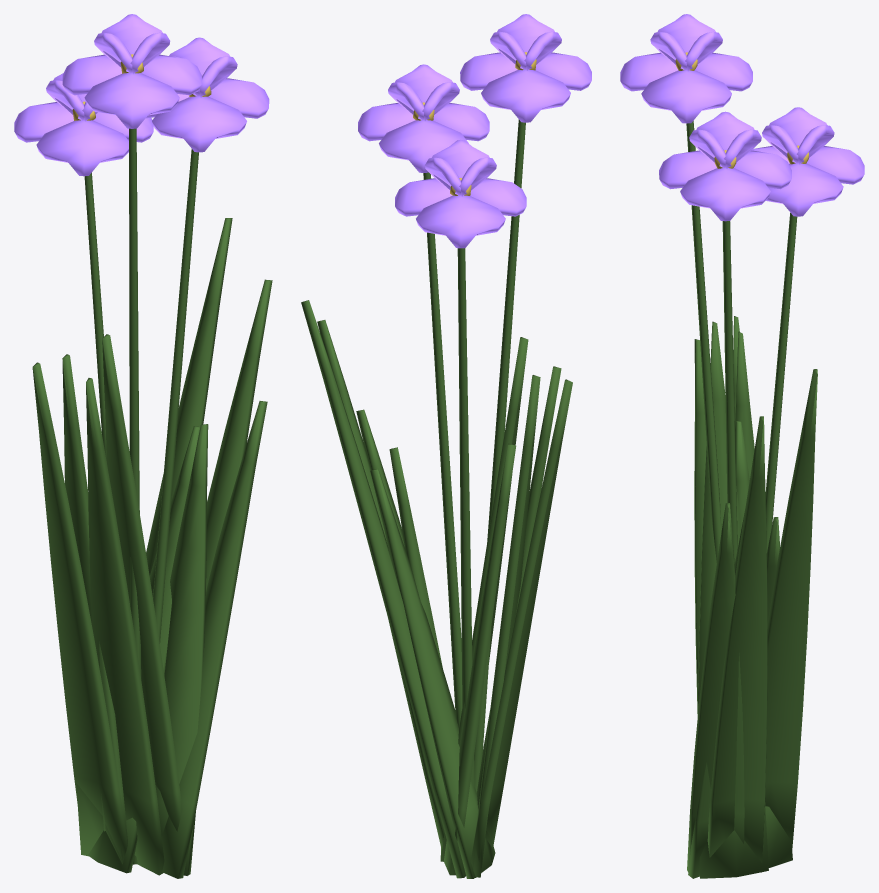
Rendered from shore_iris.glb.
3 renders of one model, left to right at view 1: azimuth 30°, elevation 25°; view 2: azimuth 150°, elevation 25°; view 3: azimuth 270°, elevation 25°, orthographic. The views are drawn at different scales.
Visible parts, largest first — view 1: iris_leaf, petal_iris; view 2: iris_leaf, petal_iris; view 3: iris_leaf, petal_iris.
Part boxes in pixels (<box>): iris_leaf: <box>32,128,272,878</box>; petal_iris: <box>14,14,269,176</box>; iris_leaf: <box>301,119,572,878</box>; petal_iris: <box>358,14,591,248</box>; iris_leaf: <box>686,121,817,878</box>; petal_iris: <box>620,14,864,221</box>.
Size of the model in its own units: 0.2665 by 0.8635 by 0.2319.
